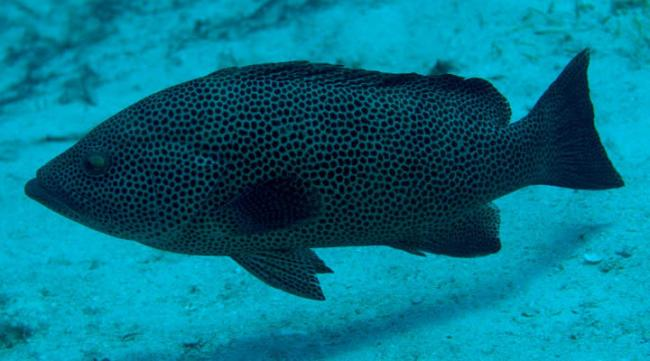fish: (25, 46, 626, 301)
